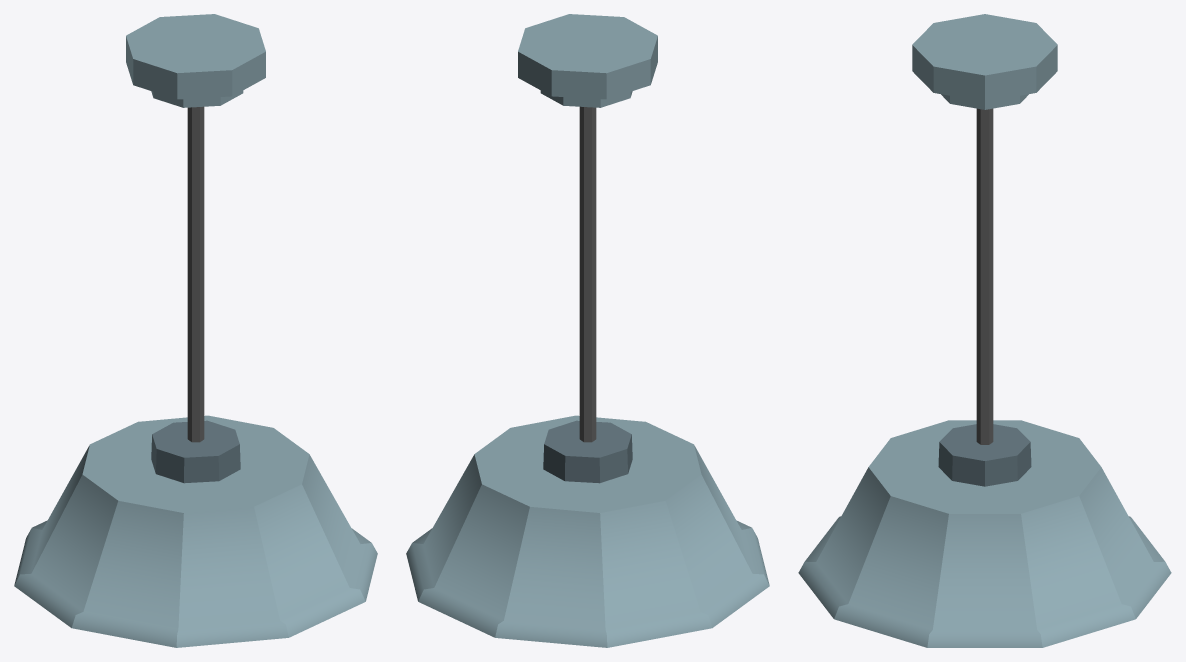
The model's file is RoundLight.fbx.
3 renders of one model, left to right at view 1: azimuth 30°, elevation 25°; view 2: azimuth 150°, elevation 25°; view 3: azimuth 270°, elevation 25°, orthographic.
Visible parts, largest first — view 1: Light_PendantLight; view 2: Light_PendantLight; view 3: Light_PendantLight.
Part boxes in pixels (box(x1,y1,x2,y2)): Light_PendantLight: box(14, 14, 377, 647); Light_PendantLight: box(406, 14, 769, 647); Light_PendantLight: box(798, 14, 1171, 647).
Size of the model in its own units: 122 by 220 by 128.
